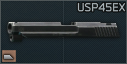HK USP Expert .45 ACP pistol slide: (0, 0, 127, 64)
